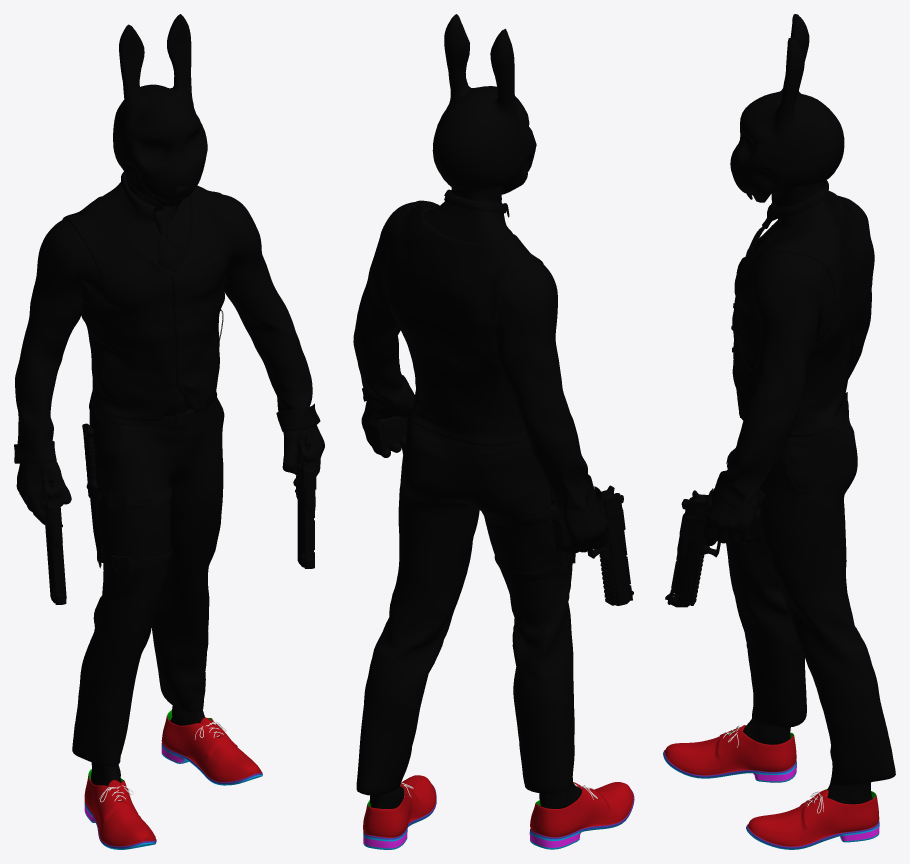
Rendered from Rabbit.fbx.
The picture shows the model from 3 angles, left to right: view 1: azimuth 30°, elevation 25°; view 2: azimuth 150°, elevation 25°; view 3: azimuth 270°, elevation 25°; orthographic projection. The views are drawn at different scales.
Parts seen in each view (by area): view 1: Rabbit; view 2: Rabbit; view 3: Rabbit.
Part boxes in pixels (x1=…): Rabbit: x1=14, y1=14, x2=324, y2=849; Rabbit: x1=353, y1=14, x2=634, y2=849; Rabbit: x1=663, y1=14, x2=895, y2=849.
Size of the model in its own units: 82.21 by 230 by 62.24.
